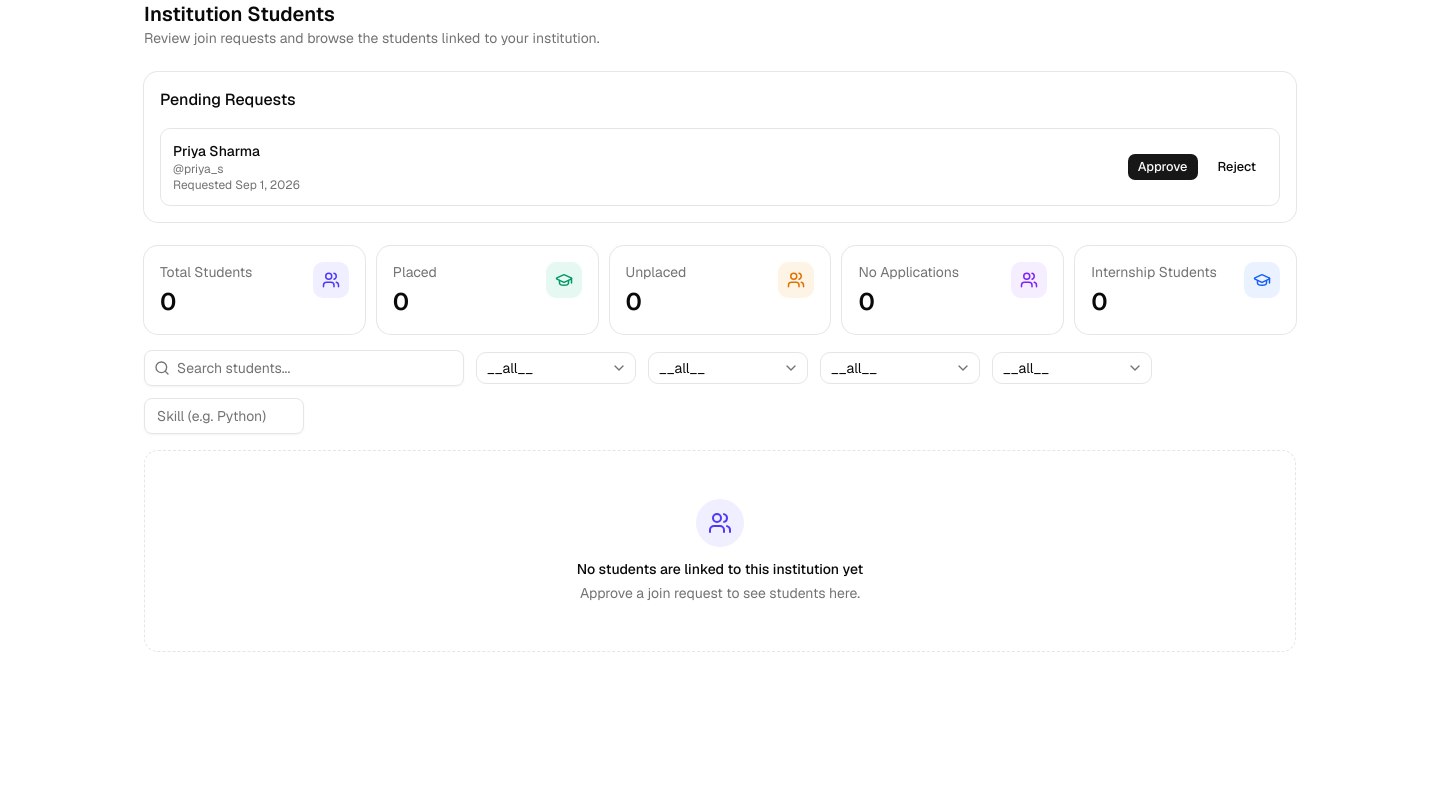
InstitutionStudentsView › rejects a request through the destructive confirmation dialog
The image size is (1440, 810).
Expected: the text "Priya Sharma" is shown, [173,142,260,160]
Click the button "Reject": coordinates (1237, 167) [1206,153,1267,181]
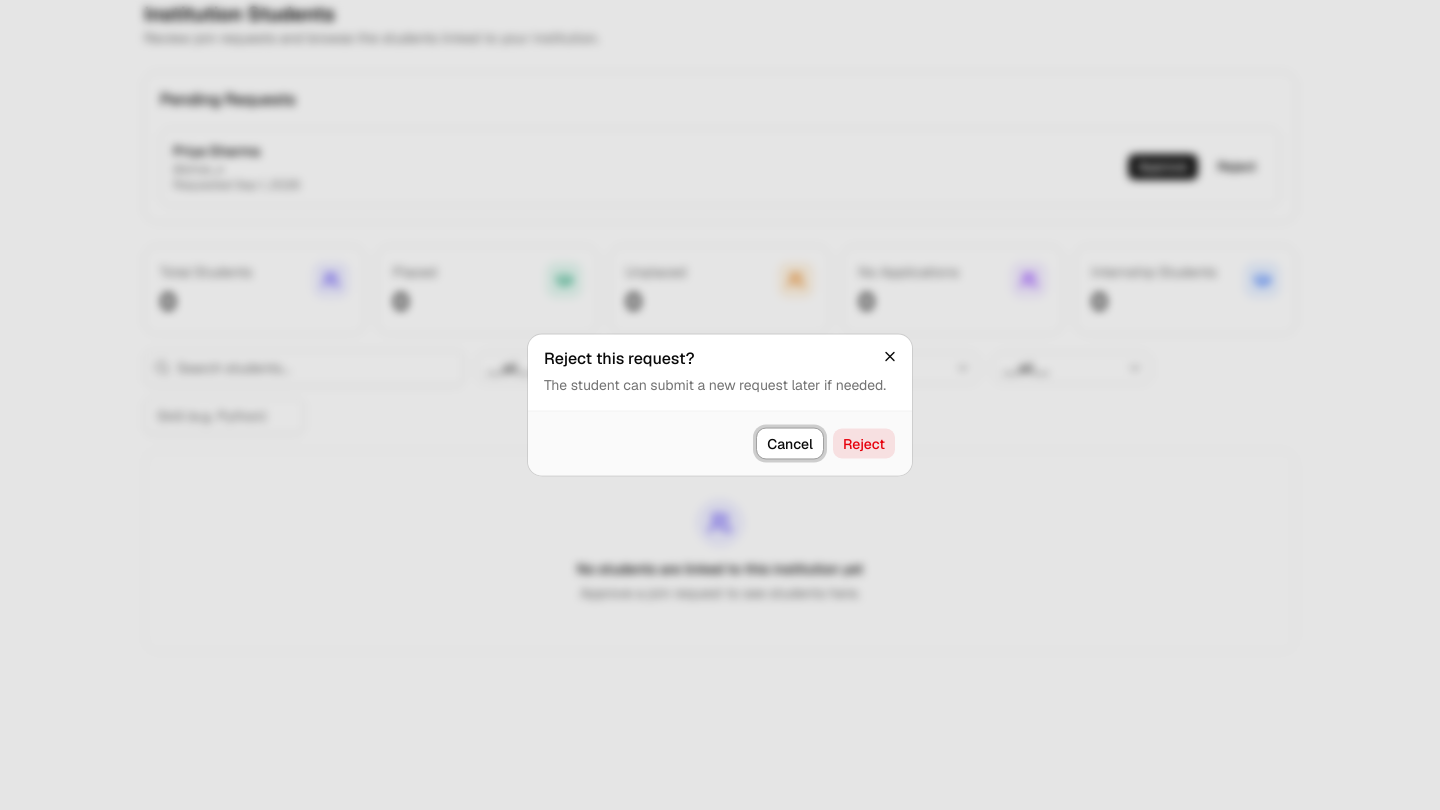
Click the button "Reject": coordinates (864, 444) [832,428,896,460]
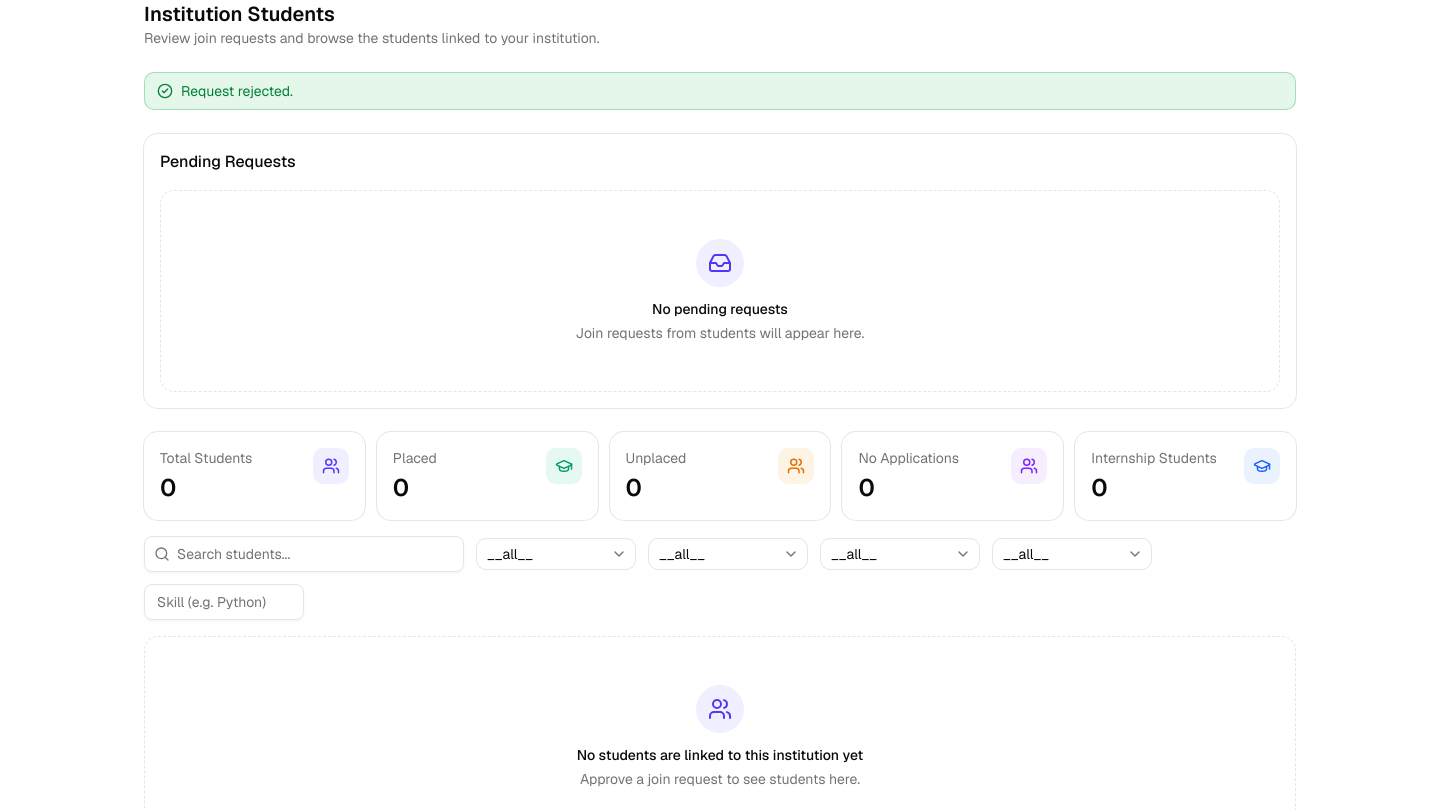
Result: the text "Request rejected." is shown at [181,81,293,101]
